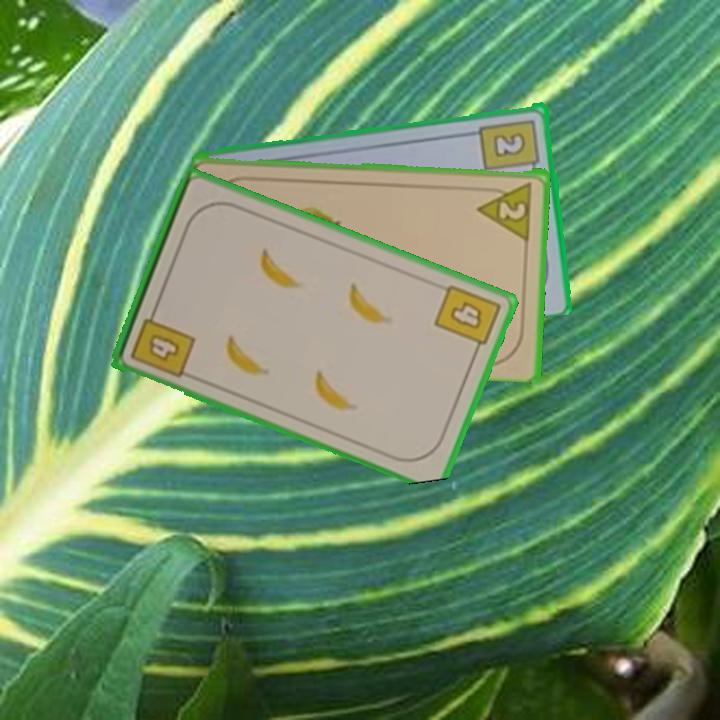2b: (477, 115, 543, 177)
2p: (475, 177, 535, 241)
4b: (430, 280, 504, 358), (127, 304, 198, 381)
